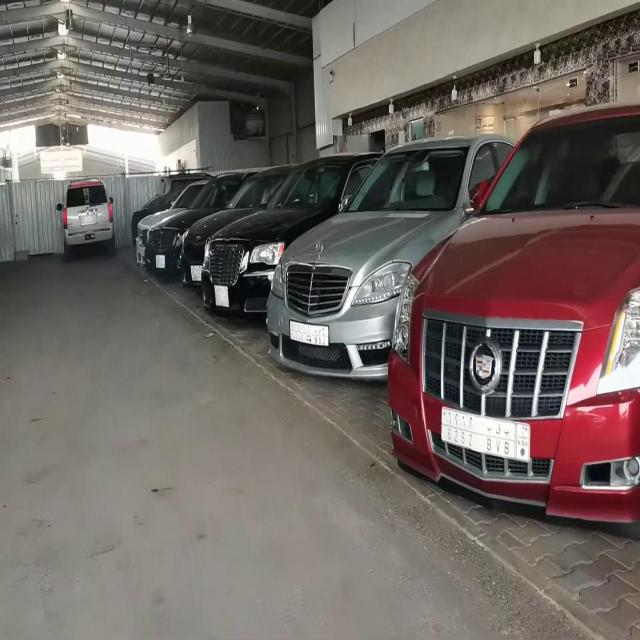license_plate: (435, 398, 537, 470), (288, 316, 330, 348), (186, 258, 204, 282), (79, 210, 98, 229), (151, 248, 165, 268), (80, 226, 97, 242)
